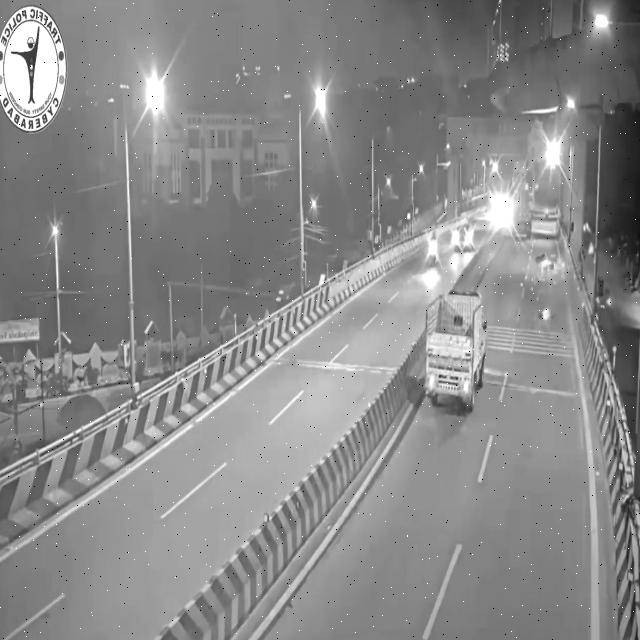accident: (528, 247, 573, 294)
